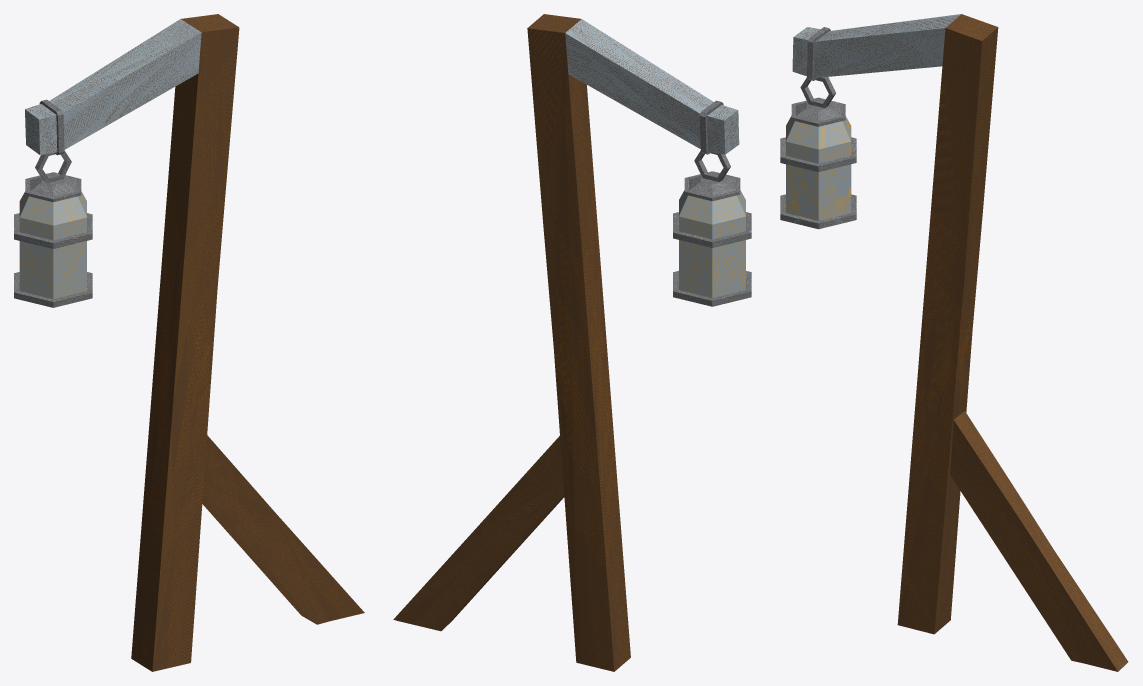
Rendered from Lamp_Post_02.fbx.
3 renders of one model, left to right at view 1: azimuth 30°, elevation 25°; view 2: azimuth 150°, elevation 25°; view 3: azimuth 330°, elevation 25°, orthographic. The views are drawn at different scales.
Parts seen in each view (by area): view 1: Model; view 2: Model; view 3: Model.
Part boxes in pixels (left/top/right/bottom): Model: left=14, top=14, right=364, bottom=671; Model: left=393, top=14, right=751, bottom=671; Model: left=780, top=14, right=1128, bottom=671.
Bounding box in the file's own units: 231 × 396 × 45.07.
